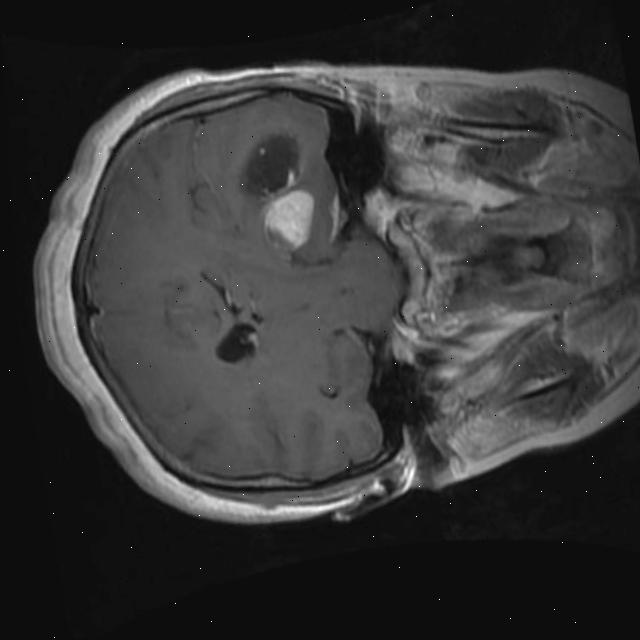Meningioma: (253, 181, 325, 254)
